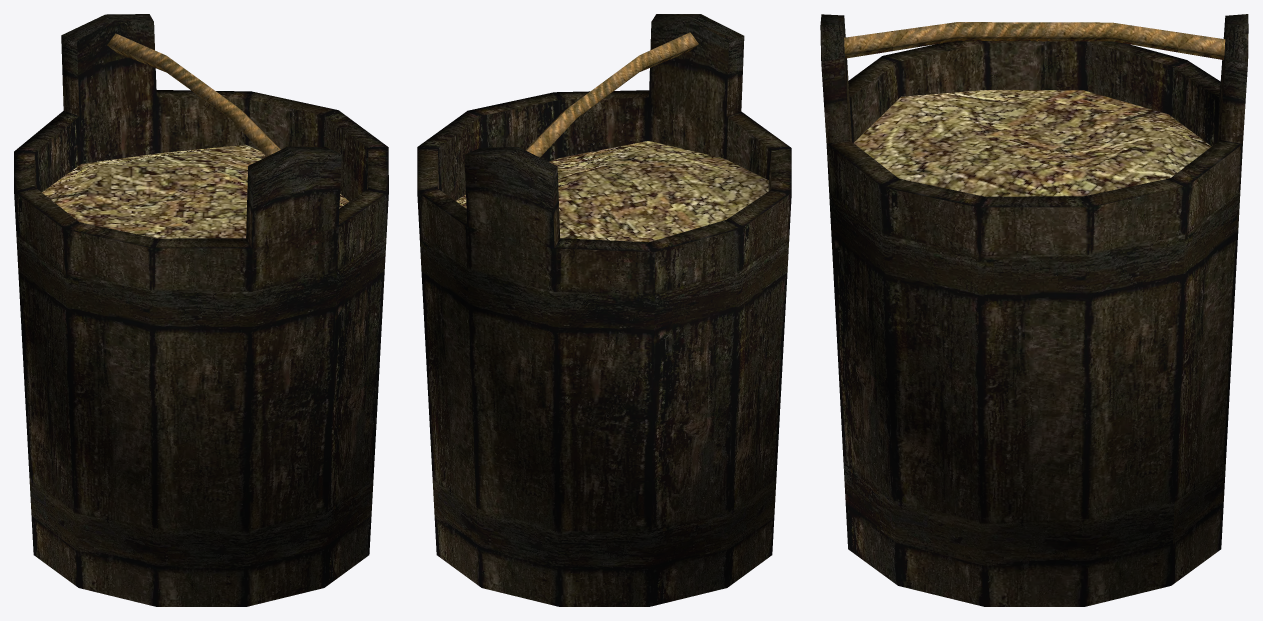
The model's file is KM_VOB_BUCKET_02.glb.
3 views of the same model, side by side, from view 1: azimuth 30°, elevation 25°; view 2: azimuth 150°, elevation 25°; view 3: azimuth 270°, elevation 25° (orthographic). The views are drawn at different scales.
Visible parts, largest first — view 1: Mesh; view 2: Mesh; view 3: Mesh.
Part boxes in pixels (x1,y1,x2,y2): Mesh: (14, 14, 388, 606); Mesh: (417, 14, 791, 606); Mesh: (820, 14, 1248, 606).
Bounding box in the file's own units: 0.3491 × 0.468 × 0.3589.
3 materials, 3 textured.
